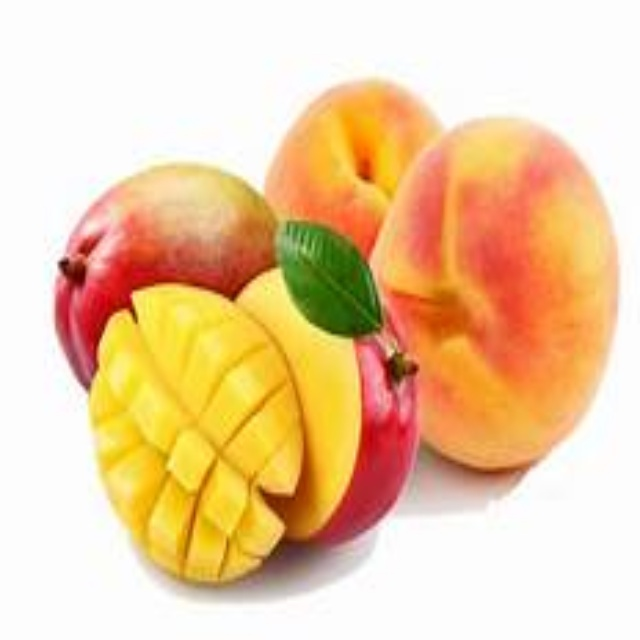mango: (98, 273, 420, 580), (373, 118, 621, 466), (60, 173, 274, 392), (265, 71, 443, 263)
